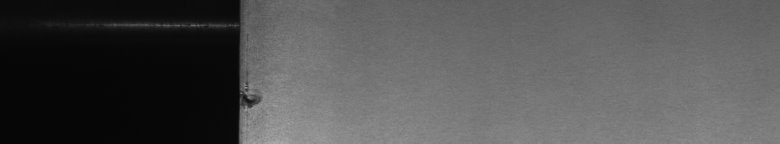hb: (248, 81, 267, 118)
